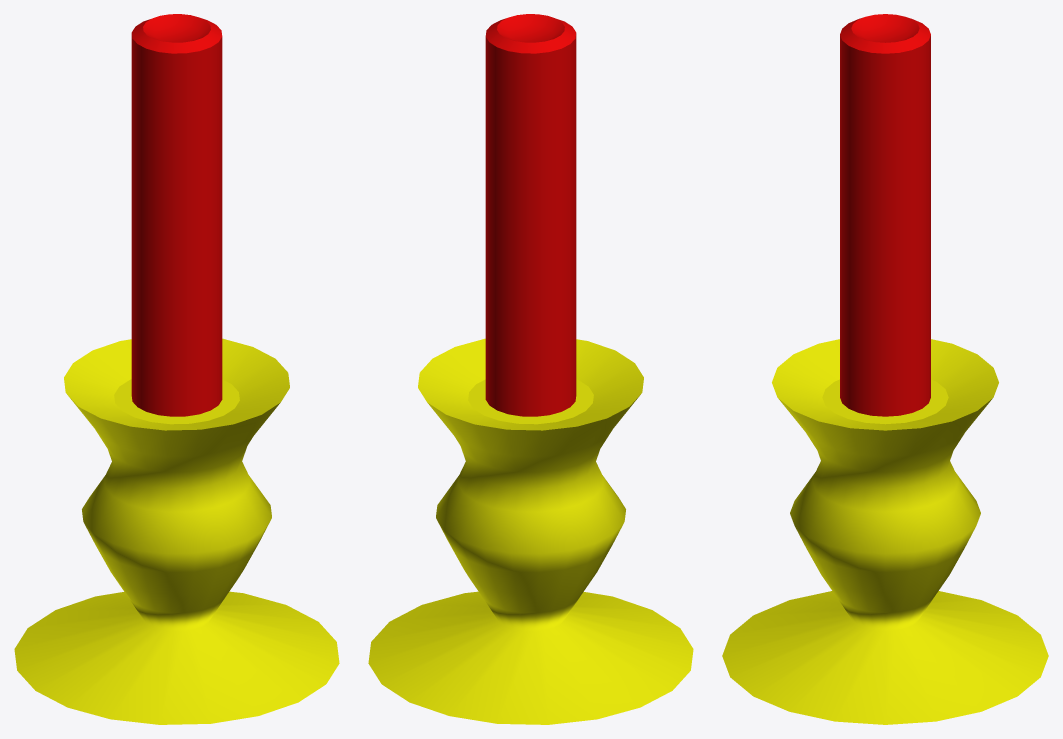
File: Bougie.fbx
3 renders of one model, left to right at view 1: azimuth 30°, elevation 25°; view 2: azimuth 150°, elevation 25°; view 3: azimuth 270°, elevation 25°, orthographic.
Parts seen in each view (by area): view 1: pCylinder4, pCylinder3; view 2: pCylinder4, pCylinder3; view 3: pCylinder4, pCylinder3.
Boxes of the visible parts, x1,y1,x2,y2 form: pCylinder4: [14, 338, 339, 724]; pCylinder3: [131, 14, 222, 416]; pCylinder4: [368, 338, 693, 724]; pCylinder3: [485, 14, 576, 416]; pCylinder4: [722, 339, 1048, 724]; pCylinder3: [840, 14, 930, 416].
Size of the model in its own units: 0.6576 by 1.39 by 0.6576.
